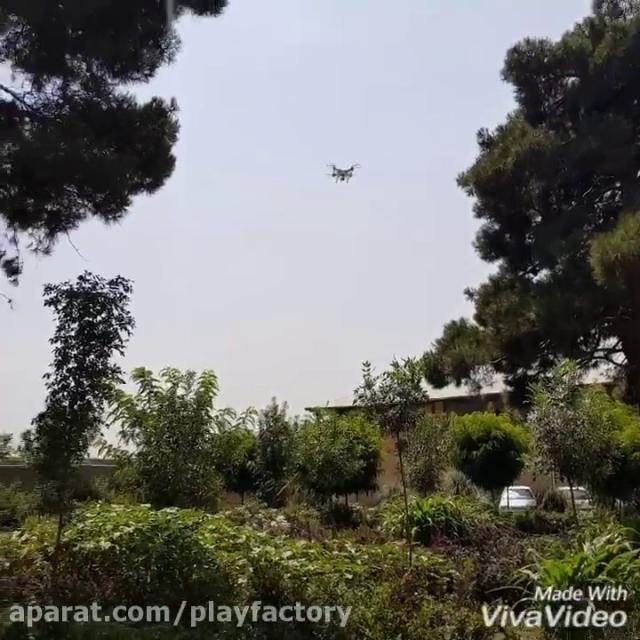drone: (325, 156, 362, 186)
